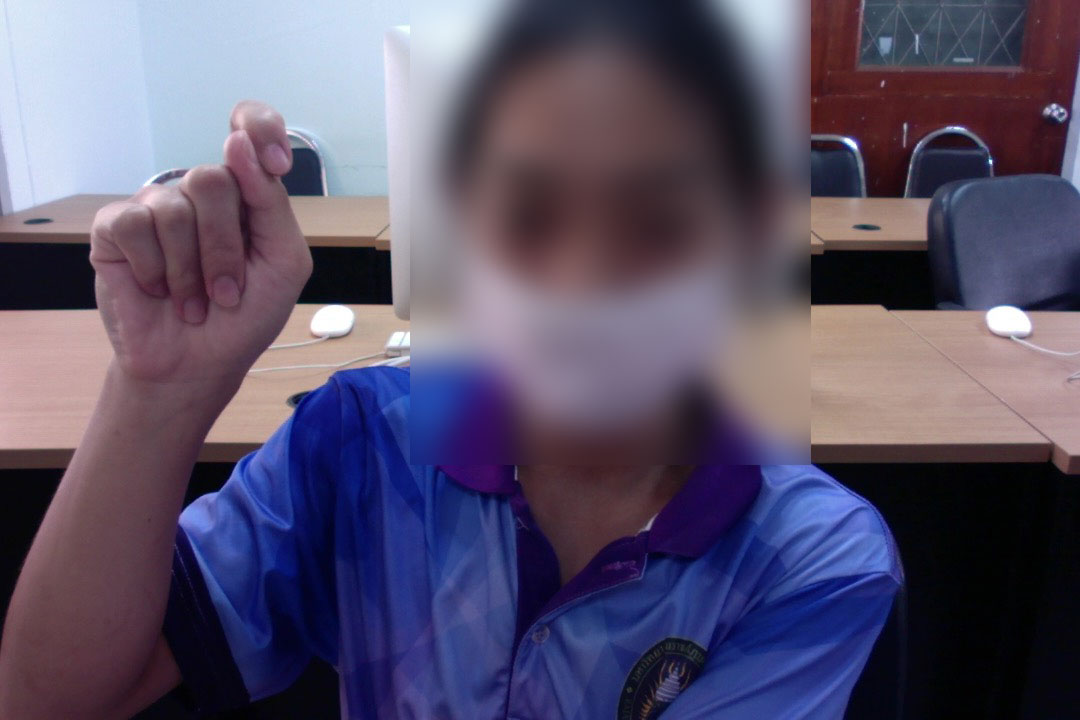tor: (86, 95, 315, 411)
